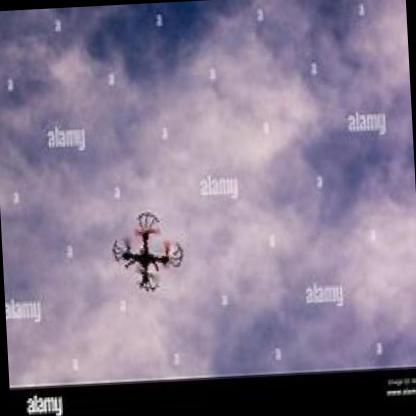drone: (104, 201, 191, 302)
